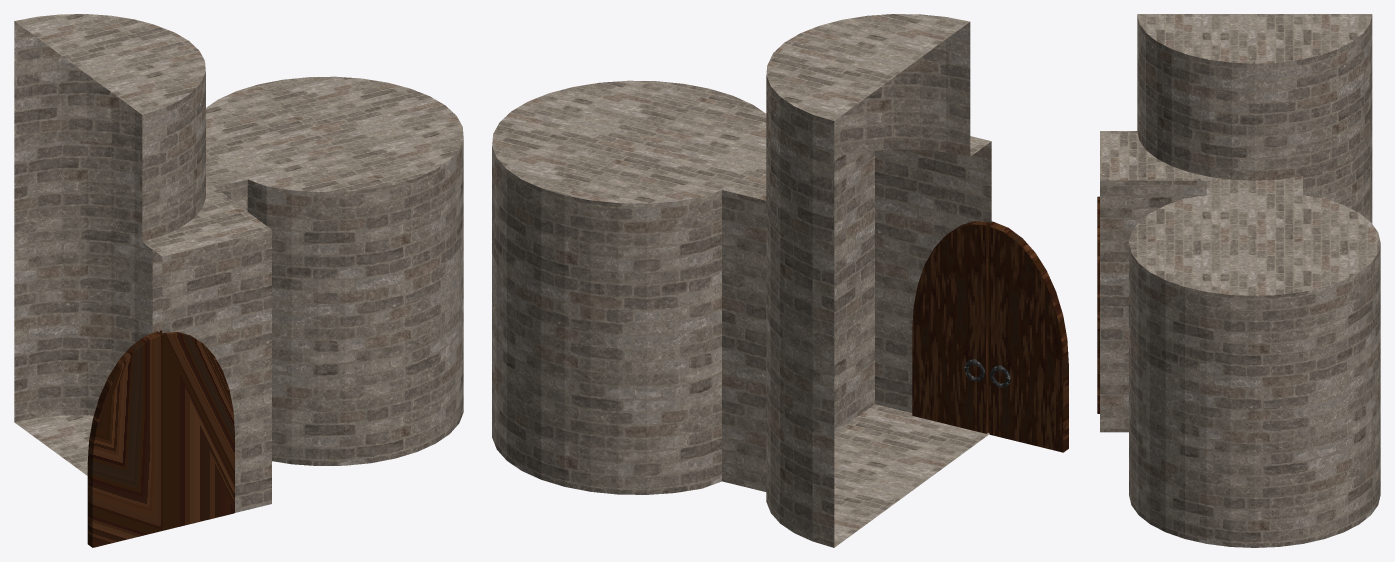
Rendered from interior.glb.
The picture shows the model from 3 angles, left to right: view 1: azimuth 30°, elevation 25°; view 2: azimuth 150°, elevation 25°; view 3: azimuth 270°, elevation 25°; orthographic projection. The views are drawn at different scales.
Visible parts, largest first — view 1: interior, door; view 2: interior, door; view 3: interior, door.
Part boxes in pixels (<box>): interior: <box>14,14,463,512</box>; door: <box>87,330,234,547</box>; interior: <box>492,14,991,547</box>; door: <box>912,221,1068,452</box>; interior: <box>1100,14,1380,547</box>; door: <box>1097,196,1099,413</box>.
Bounding box in the file's own units: 3.99 × 3.49 × 2.43.
Materials: 3 (3 with a texture image).
